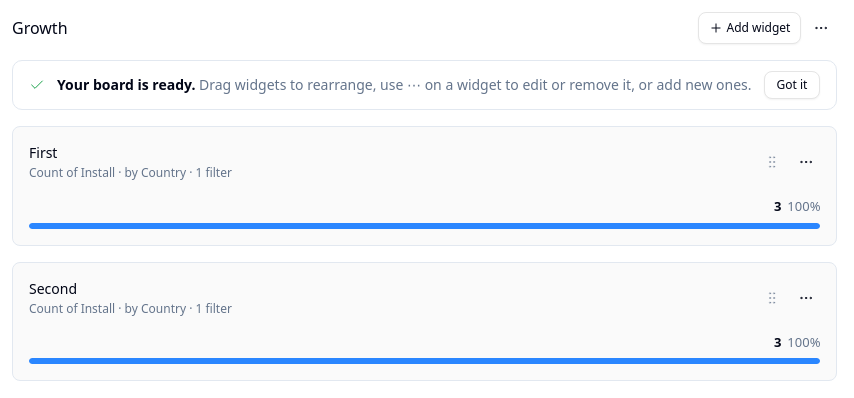
Scenario: DashboardBoard › shows the new-board hint above a copied board's widgets until dismissed
Check: the text "Your board is ready." is shown, box x1=57 y1=75 x2=195 y2=94
Click the button "Got it" at point(792, 85), box x1=764 y1=71 x2=820 y2=99
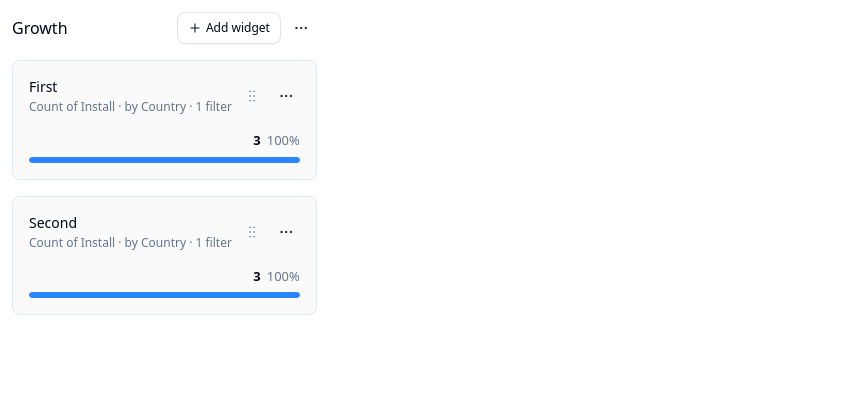
Check: the text "Your board is ready." is gone
